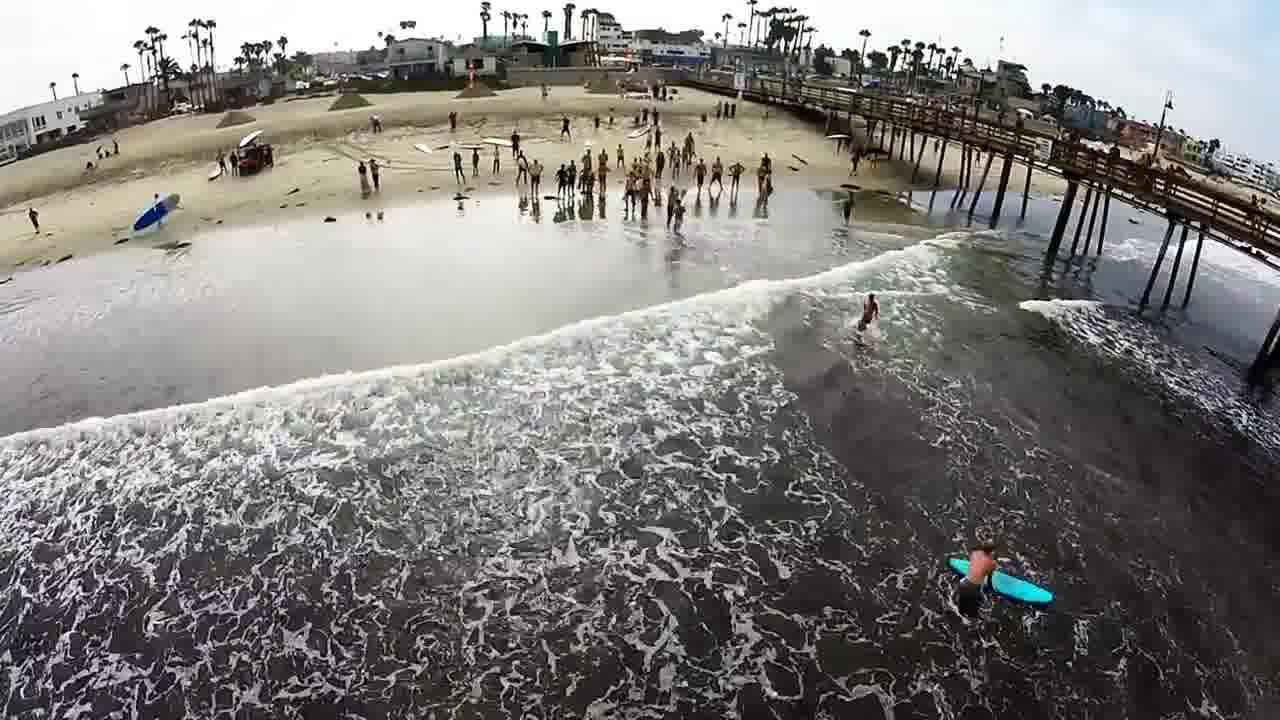swimmer: (952, 521, 1001, 629), (853, 277, 874, 336)
